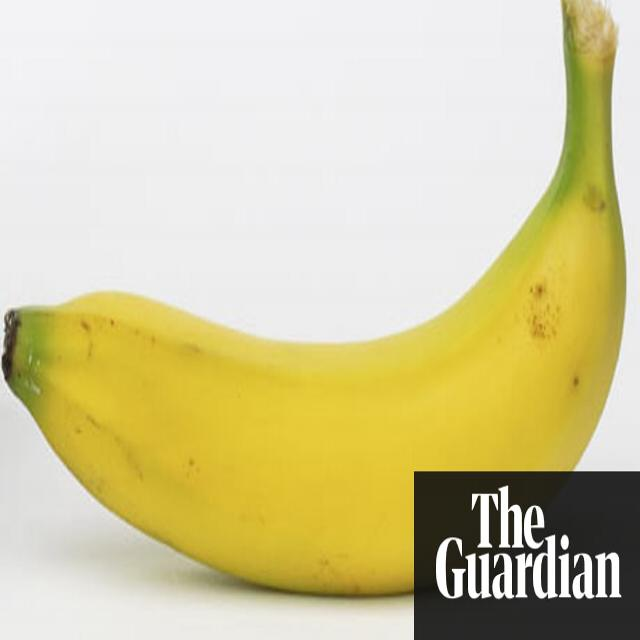banana: (5, 19, 640, 592)
